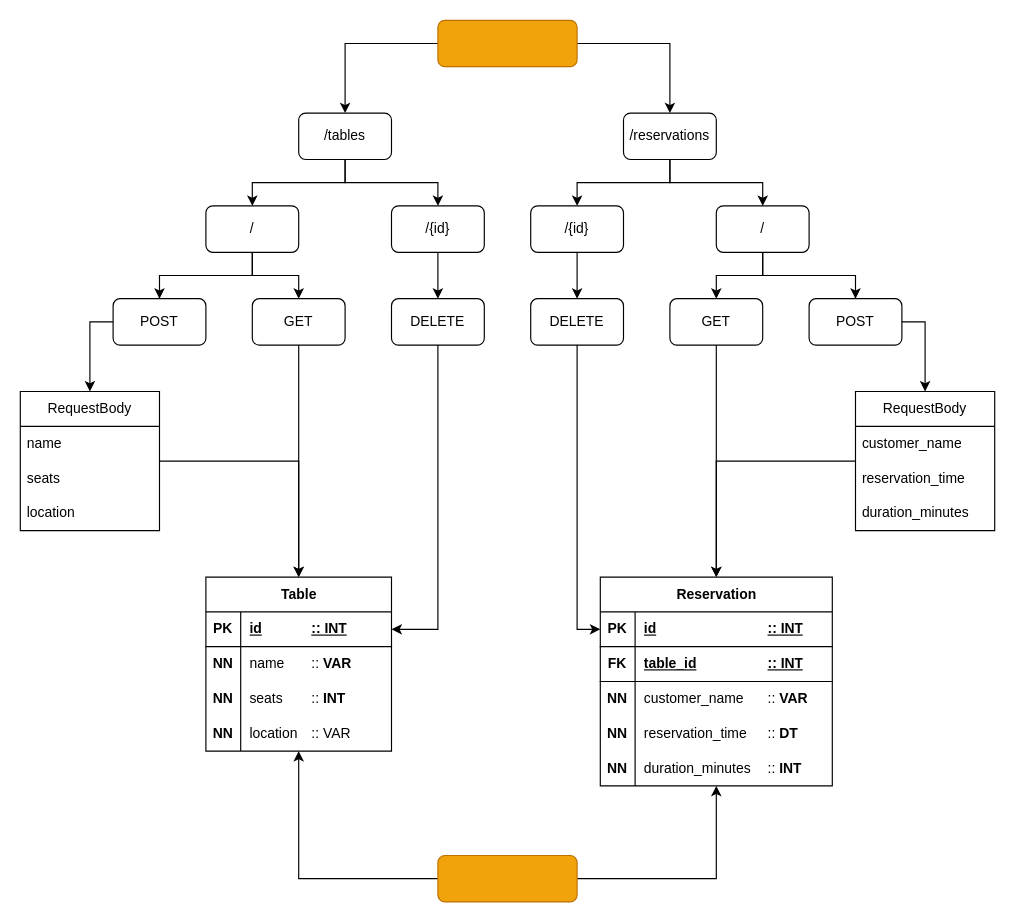
This 1015x922 diagram has some shape labels left out. The shapes that lost their labels are listed below. From the top down, each one's centre as x and y in pixels, then its label:
(x=507, y=43): FastAPI
(x=507, y=878): PostgreSQL
